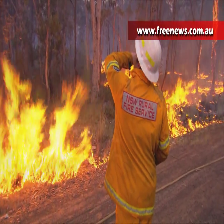fire_h: (1, 55, 97, 194), (161, 77, 224, 138)
fire_l: (98, 152, 111, 165), (212, 1, 218, 22), (125, 64, 133, 77), (195, 72, 207, 80), (100, 60, 106, 73), (173, 71, 182, 76), (103, 81, 109, 86), (166, 71, 170, 74)
